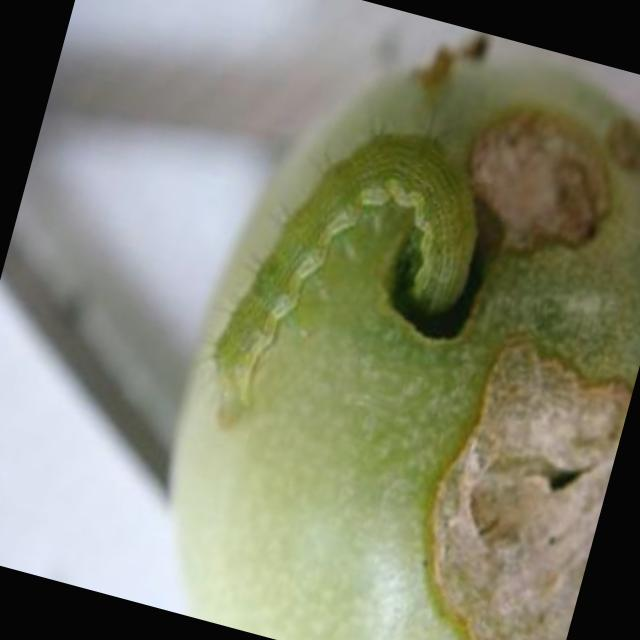Cotton bollworm: (170, 97, 500, 510)
